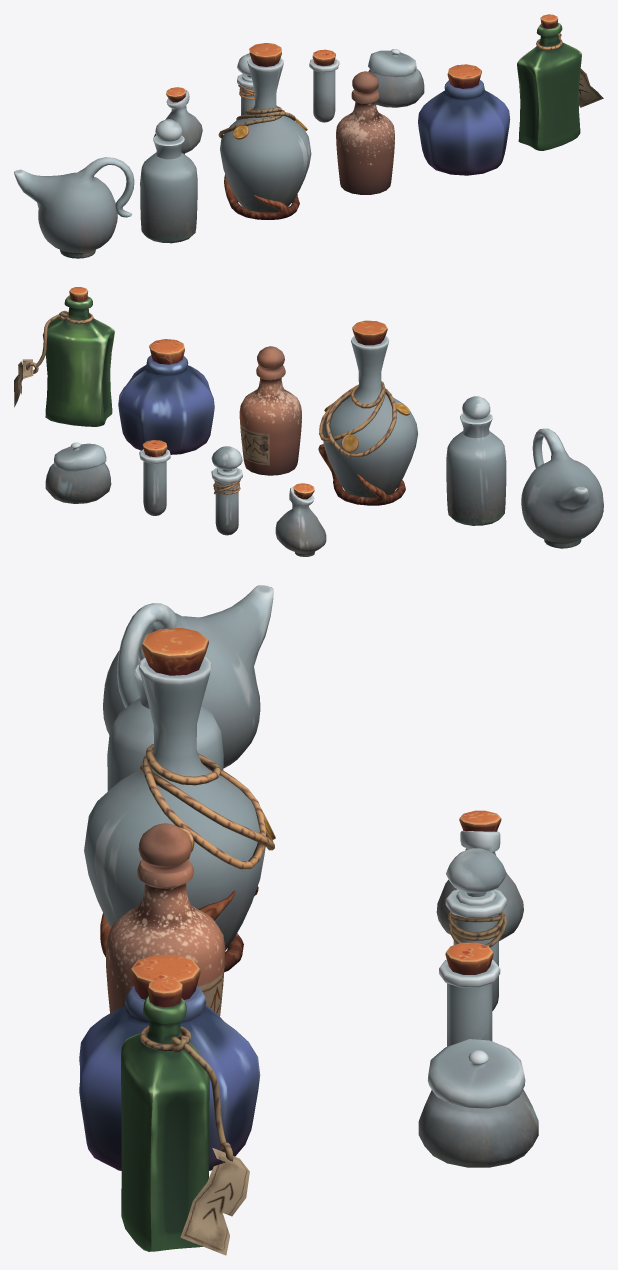
Rendered from MagicPotion.fbx.
3 views of the same model, one above another, from view 1: azimuth 30°, elevation 25°; view 2: azimuth 150°, elevation 25°; view 3: azimuth 270°, elevation 25° (orthographic). The views are drawn at different scales.
Parts seen in each view (by area): view 1: Cylinder, Cylinder.001, Cylinder.002, Plane.002, Circle.001, Circle.004, Circle.017, Cylinder.003, Cylinder.005, Cylinder.004; view 2: Cylinder, Cylinder.002, Cylinder.001, Plane.002, Circle.001, Circle.004, Circle.017, Cylinder.005, Cylinder.004, Cylinder.003; view 3: Cylinder, Cylinder.002, Cylinder.001, Circle.017, Plane.002, Circle.004, Cylinder.004, Cylinder.003, Circle.001, Cylinder.005.
Boxes of the visible parts, <box> form: Cylinder: <box>218,43,311,219</box>; Cylinder.001: <box>418,64,510,175</box>; Cylinder.002: <box>517,14,603,150</box>; Plane.002: <box>14,157,134,258</box>; Circle.001: <box>140,119,197,243</box>; Circle.004: <box>336,71,394,194</box>; Circle.017: <box>368,49,424,107</box>; Cylinder.003: <box>309,49,339,122</box>; Cylinder.005: <box>154,87,202,154</box>; Cylinder.004: <box>237,53,254,115</box>; Cylinder: <box>318,320,417,505</box>; Cylinder.002: <box>14,287,114,426</box>; Cylinder.001: <box>118,339,214,454</box>; Plane.002: <box>521,428,603,548</box>; Circle.001: <box>446,396,506,525</box>; Circle.004: <box>239,346,301,475</box>; Circle.017: <box>45,442,111,503</box>; Cylinder.005: <box>275,483,326,556</box>; Cylinder.004: <box>211,446,242,535</box>; Cylinder.003: <box>139,440,170,515</box>; Cylinder: <box>84,628,275,971</box>; Cylinder.002: <box>121,978,249,1255</box>; Cylinder.001: <box>79,955,260,1170</box>; Circle.017: <box>418,1039,538,1167</box>; Plane.002: <box>103,585,273,768</box>; Circle.004: <box>105,823,225,1016</box>; Cylinder.004: <box>445,848,506,1010</box>; Cylinder.003: <box>439,942,500,1046</box>; Circle.001: <box>107,643,223,791</box>; Cylinder.005: <box>436,810,523,940</box>.
Size of the model in its own units: 226 by 79.18 by 60.58.
